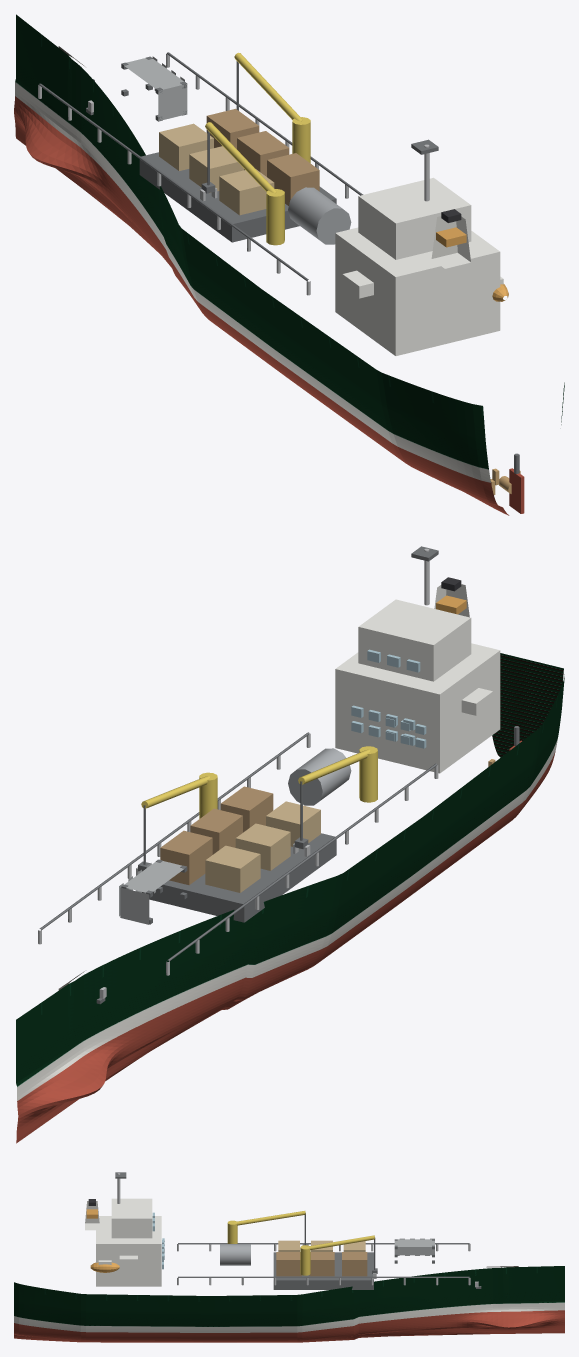
The model's file is merchant.glb.
3 views of the same model, one above another, from view 1: azimuth 30°, elevation 25°; view 2: azimuth 150°, elevation 25°; view 3: azimuth 270°, elevation 25° (orthographic). The views are drawn at different scales.
Visible parts, largest first — view 1: ship; view 2: ship; view 3: ship.
Boxes of the visible parts, x1,y1,x2,y2 form: ship: (14,14,564,515); ship: (16,546,564,1143); ship: (14,1172,564,1342).
Size of the model in its own units: 0.5564 by 0.99 by 3.02.
16 materials, 1 textured.
